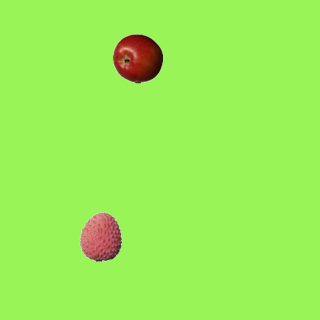Apple Braeburn: (112, 33, 162, 83)
Lychee: (75, 211, 125, 261)
